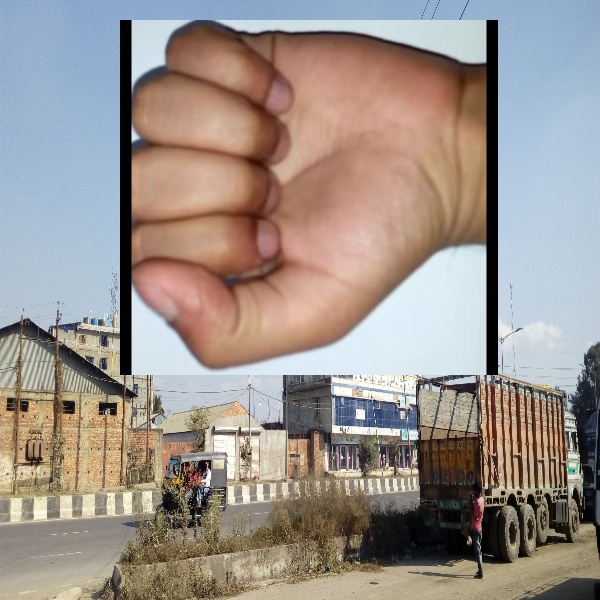A: (120, 20, 498, 375)
